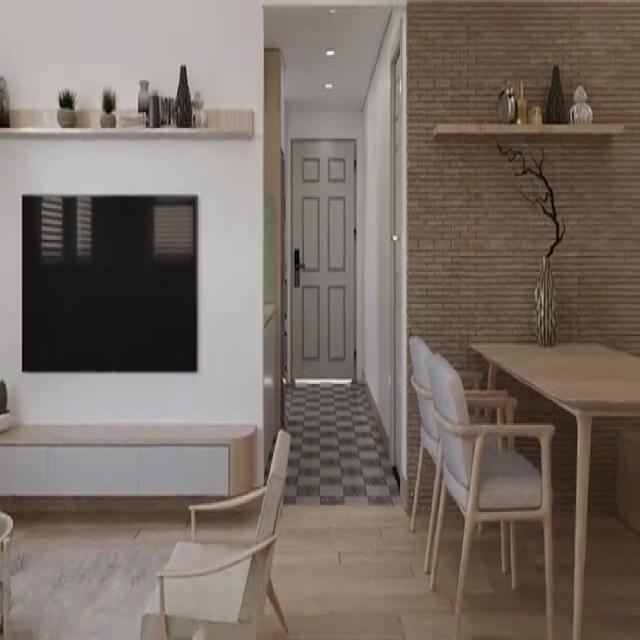door: (290, 136, 355, 382)
obstacle: (469, 340, 639, 638), (431, 350, 556, 640), (139, 426, 291, 638), (406, 338, 520, 575)
